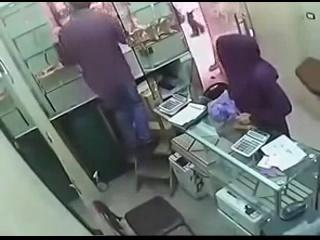Normal: (46, 3, 159, 156)
